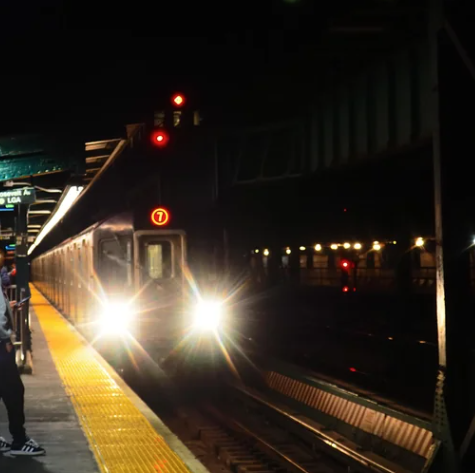train: (80, 205, 231, 363)
